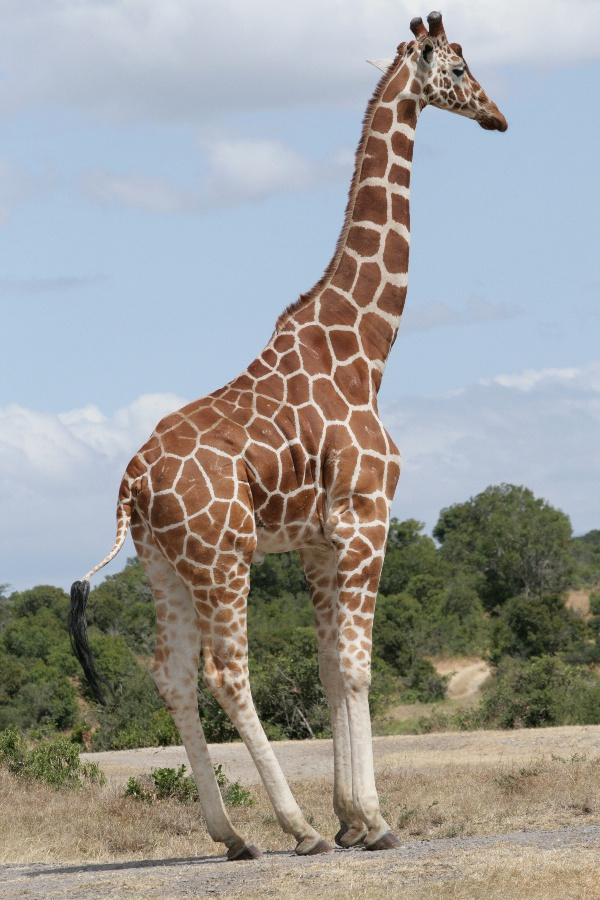giraffe: (59, 3, 520, 871)
